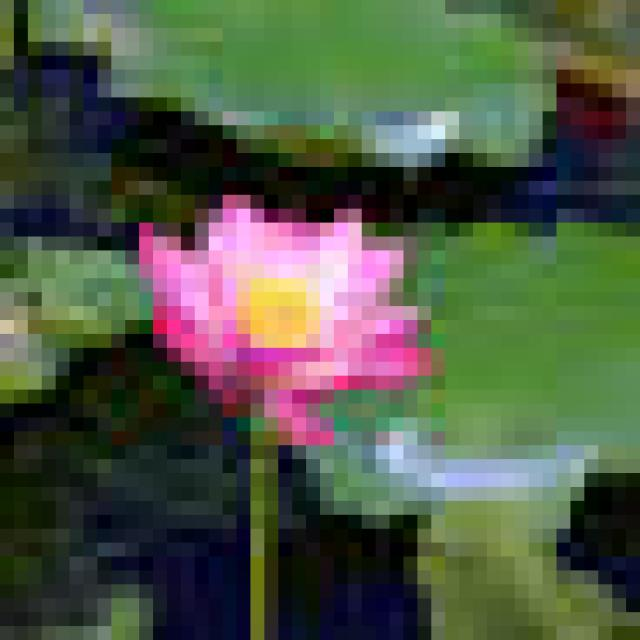lotus: (108, 171, 464, 475)
